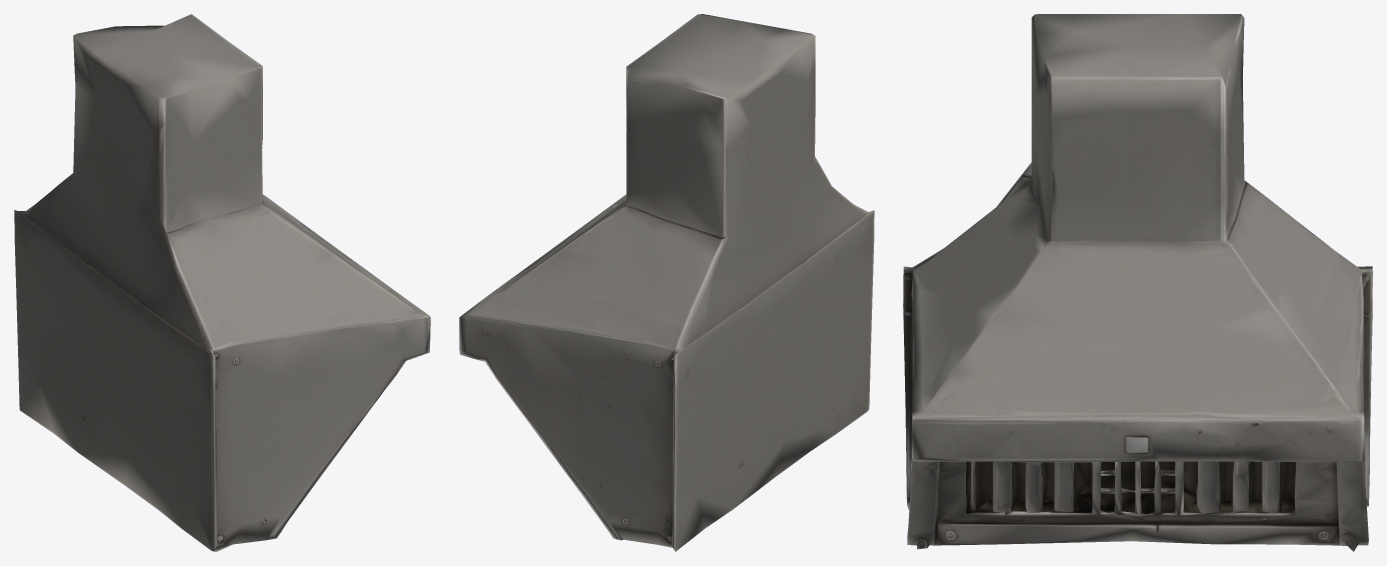
The model's file is campana.glb.
3 renders of one model, left to right at view 1: azimuth 30°, elevation 25°; view 2: azimuth 150°, elevation 25°; view 3: azimuth 270°, elevation 25°, orthographic. The views are drawn at different scales.
Visible parts, largest first — view 1: tripo_node_3a68e316-a249-46c7-98a1-ab3758cd3653; view 2: tripo_node_3a68e316-a249-46c7-98a1-ab3758cd3653; view 3: tripo_node_3a68e316-a249-46c7-98a1-ab3758cd3653.
Part boxes in pixels (box(x1,y1,x2,y2)): tripo_node_3a68e316-a249-46c7-98a1-ab3758cd3653: box(14, 14, 430, 551); tripo_node_3a68e316-a249-46c7-98a1-ab3758cd3653: box(459, 14, 874, 551); tripo_node_3a68e316-a249-46c7-98a1-ab3758cd3653: box(903, 14, 1372, 551).
Size of the model in its own units: 0.5683 by 1 by 0.8582.
Materials: 1 (1 with a texture image).
